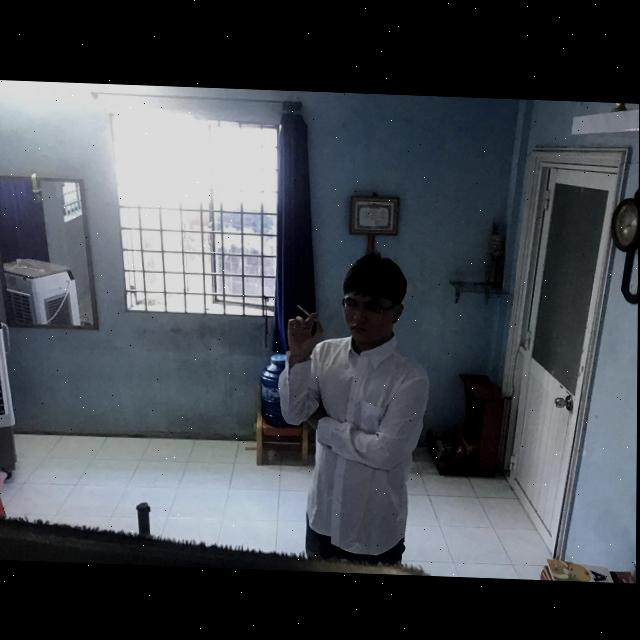cigarette: (297, 302, 311, 314)
